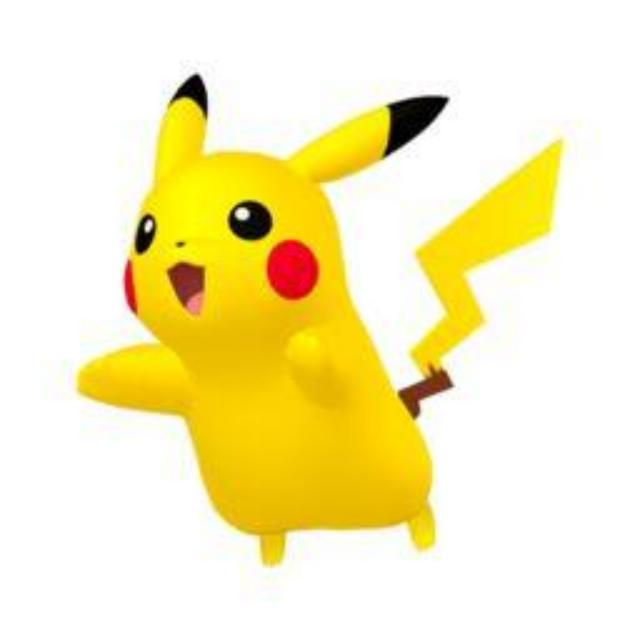pickachu: (74, 76, 564, 570)
